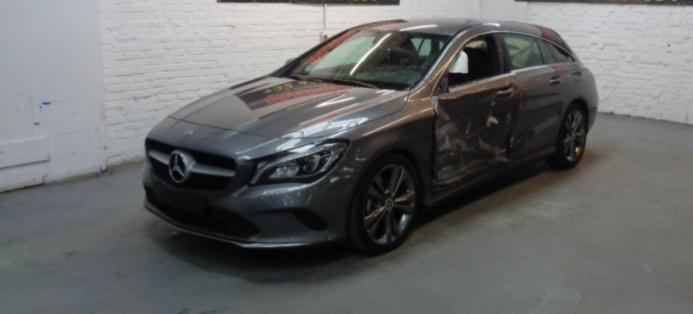Back-bumper: (588, 94, 599, 133)
Back-door: (503, 30, 564, 158)
Back-wheel: (552, 103, 588, 169)
Back-window: (505, 34, 544, 69), (544, 39, 575, 64)
Fender: (319, 78, 437, 202)
Front-bumper: (142, 117, 370, 249)
Front-door: (431, 30, 519, 196)
Front-wheel: (346, 153, 423, 256)
Front-window: (437, 33, 507, 96)
Grille: (145, 139, 238, 192)
Headlight: (248, 138, 348, 187)
Hood: (168, 74, 409, 139)
Quarter-panel: (554, 61, 597, 144)
Rocker-panel: (419, 144, 559, 220)
Roof: (355, 18, 527, 37)
Windshield: (269, 27, 455, 91)
